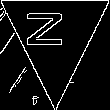N_E: (33, 17, 77, 57)
